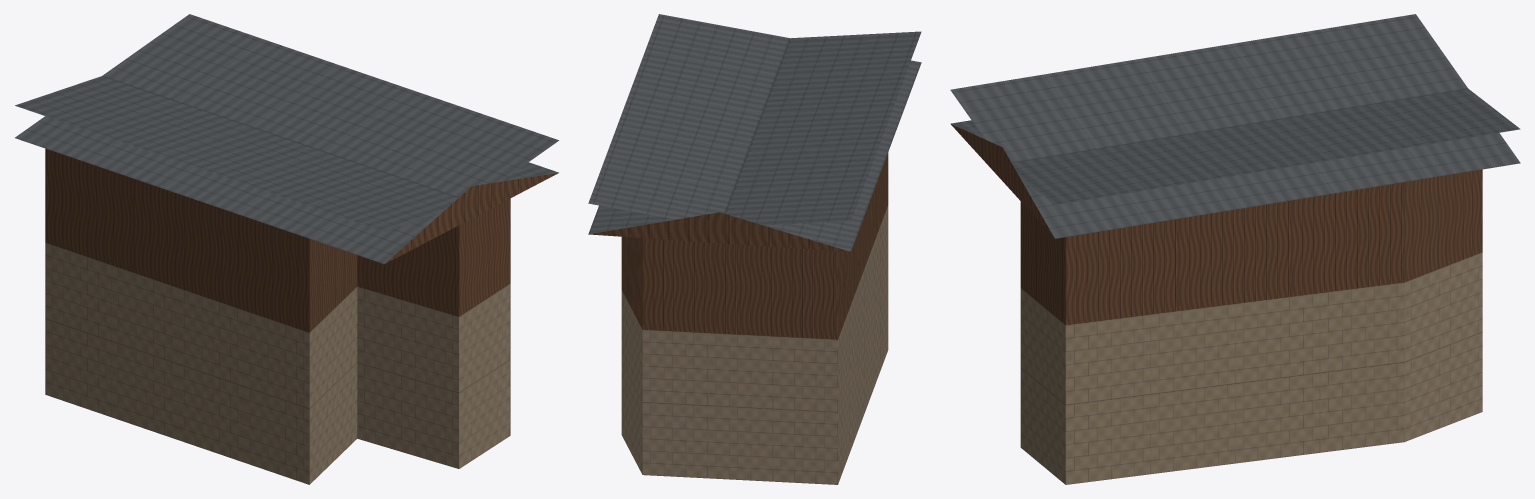
Rendered from bld_c37_34_299.gltf.
3 views of the same model, side by side, from view 1: azimuth 30°, elevation 25°; view 2: azimuth 150°, elevation 25°; view 3: azimuth 270°, elevation 25° (orthographic). The views are drawn at different scales.
Visible parts, largest first — view 1: bld_c37_34_299; view 2: bld_c37_34_299; view 3: bld_c37_34_299.
Part boxes in pixels (x1,y1,x2,y2): bld_c37_34_299: (15, 14, 558, 484); bld_c37_34_299: (588, 14, 921, 484); bld_c37_34_299: (950, 14, 1520, 484).
Bounding box in the file's own units: 12.06 × 8.9 × 15.22.
Materials: 4 (4 with a texture image).
